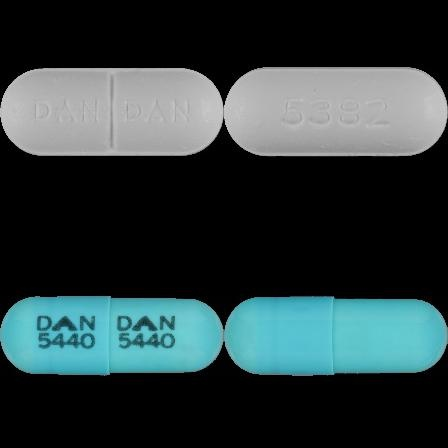0591-5382: (0, 0, 224, 224)
